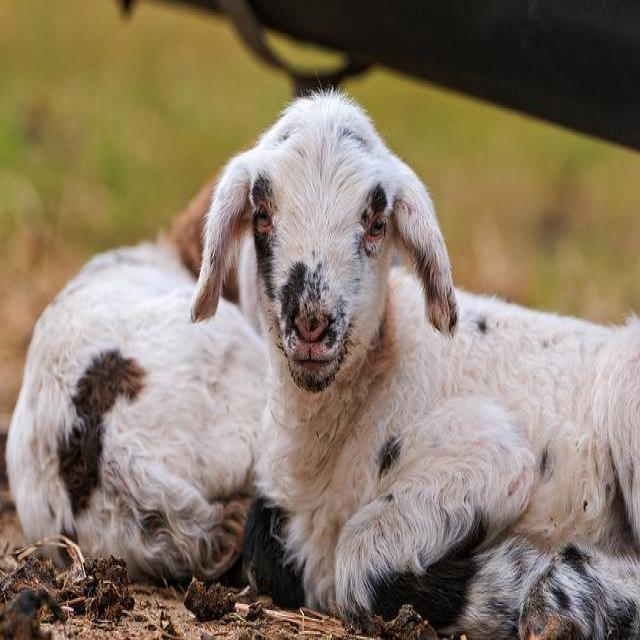Sheep: (190, 93, 639, 638), (6, 142, 270, 588)
